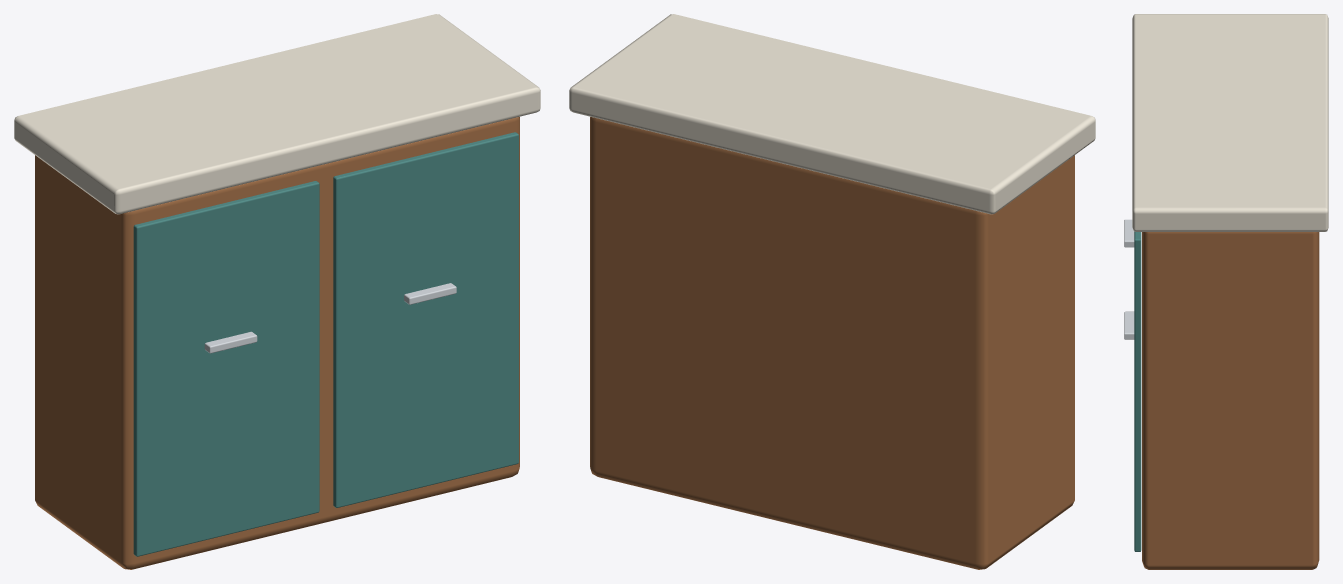
Rendered from wp-placard-mural.glb.
3 views of the same model, side by side, from view 1: azimuth 30°, elevation 25°; view 2: azimuth 150°, elevation 25°; view 3: azimuth 270°, elevation 25° (orthographic). The views are drawn at different scales.
Parts seen in each view (by area): view 1: wp-placard-mural; view 2: wp-placard-mural; view 3: wp-placard-mural.
Part boxes in pixels (x1=…): wp-placard-mural: x1=14, y1=14, x2=540, y2=569; wp-placard-mural: x1=569, y1=14, x2=1095, y2=569; wp-placard-mural: x1=1124, y1=14, x2=1328, y2=569.
Size of the model in its own units: 0.8 by 0.7 by 0.35.
